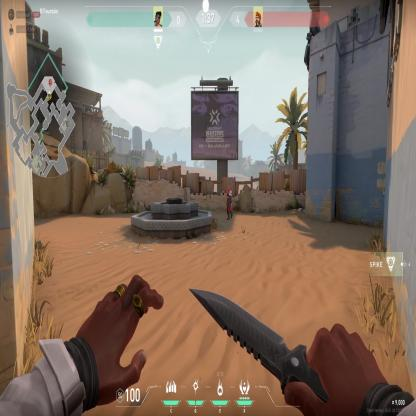enemy: (225, 184, 233, 220)
